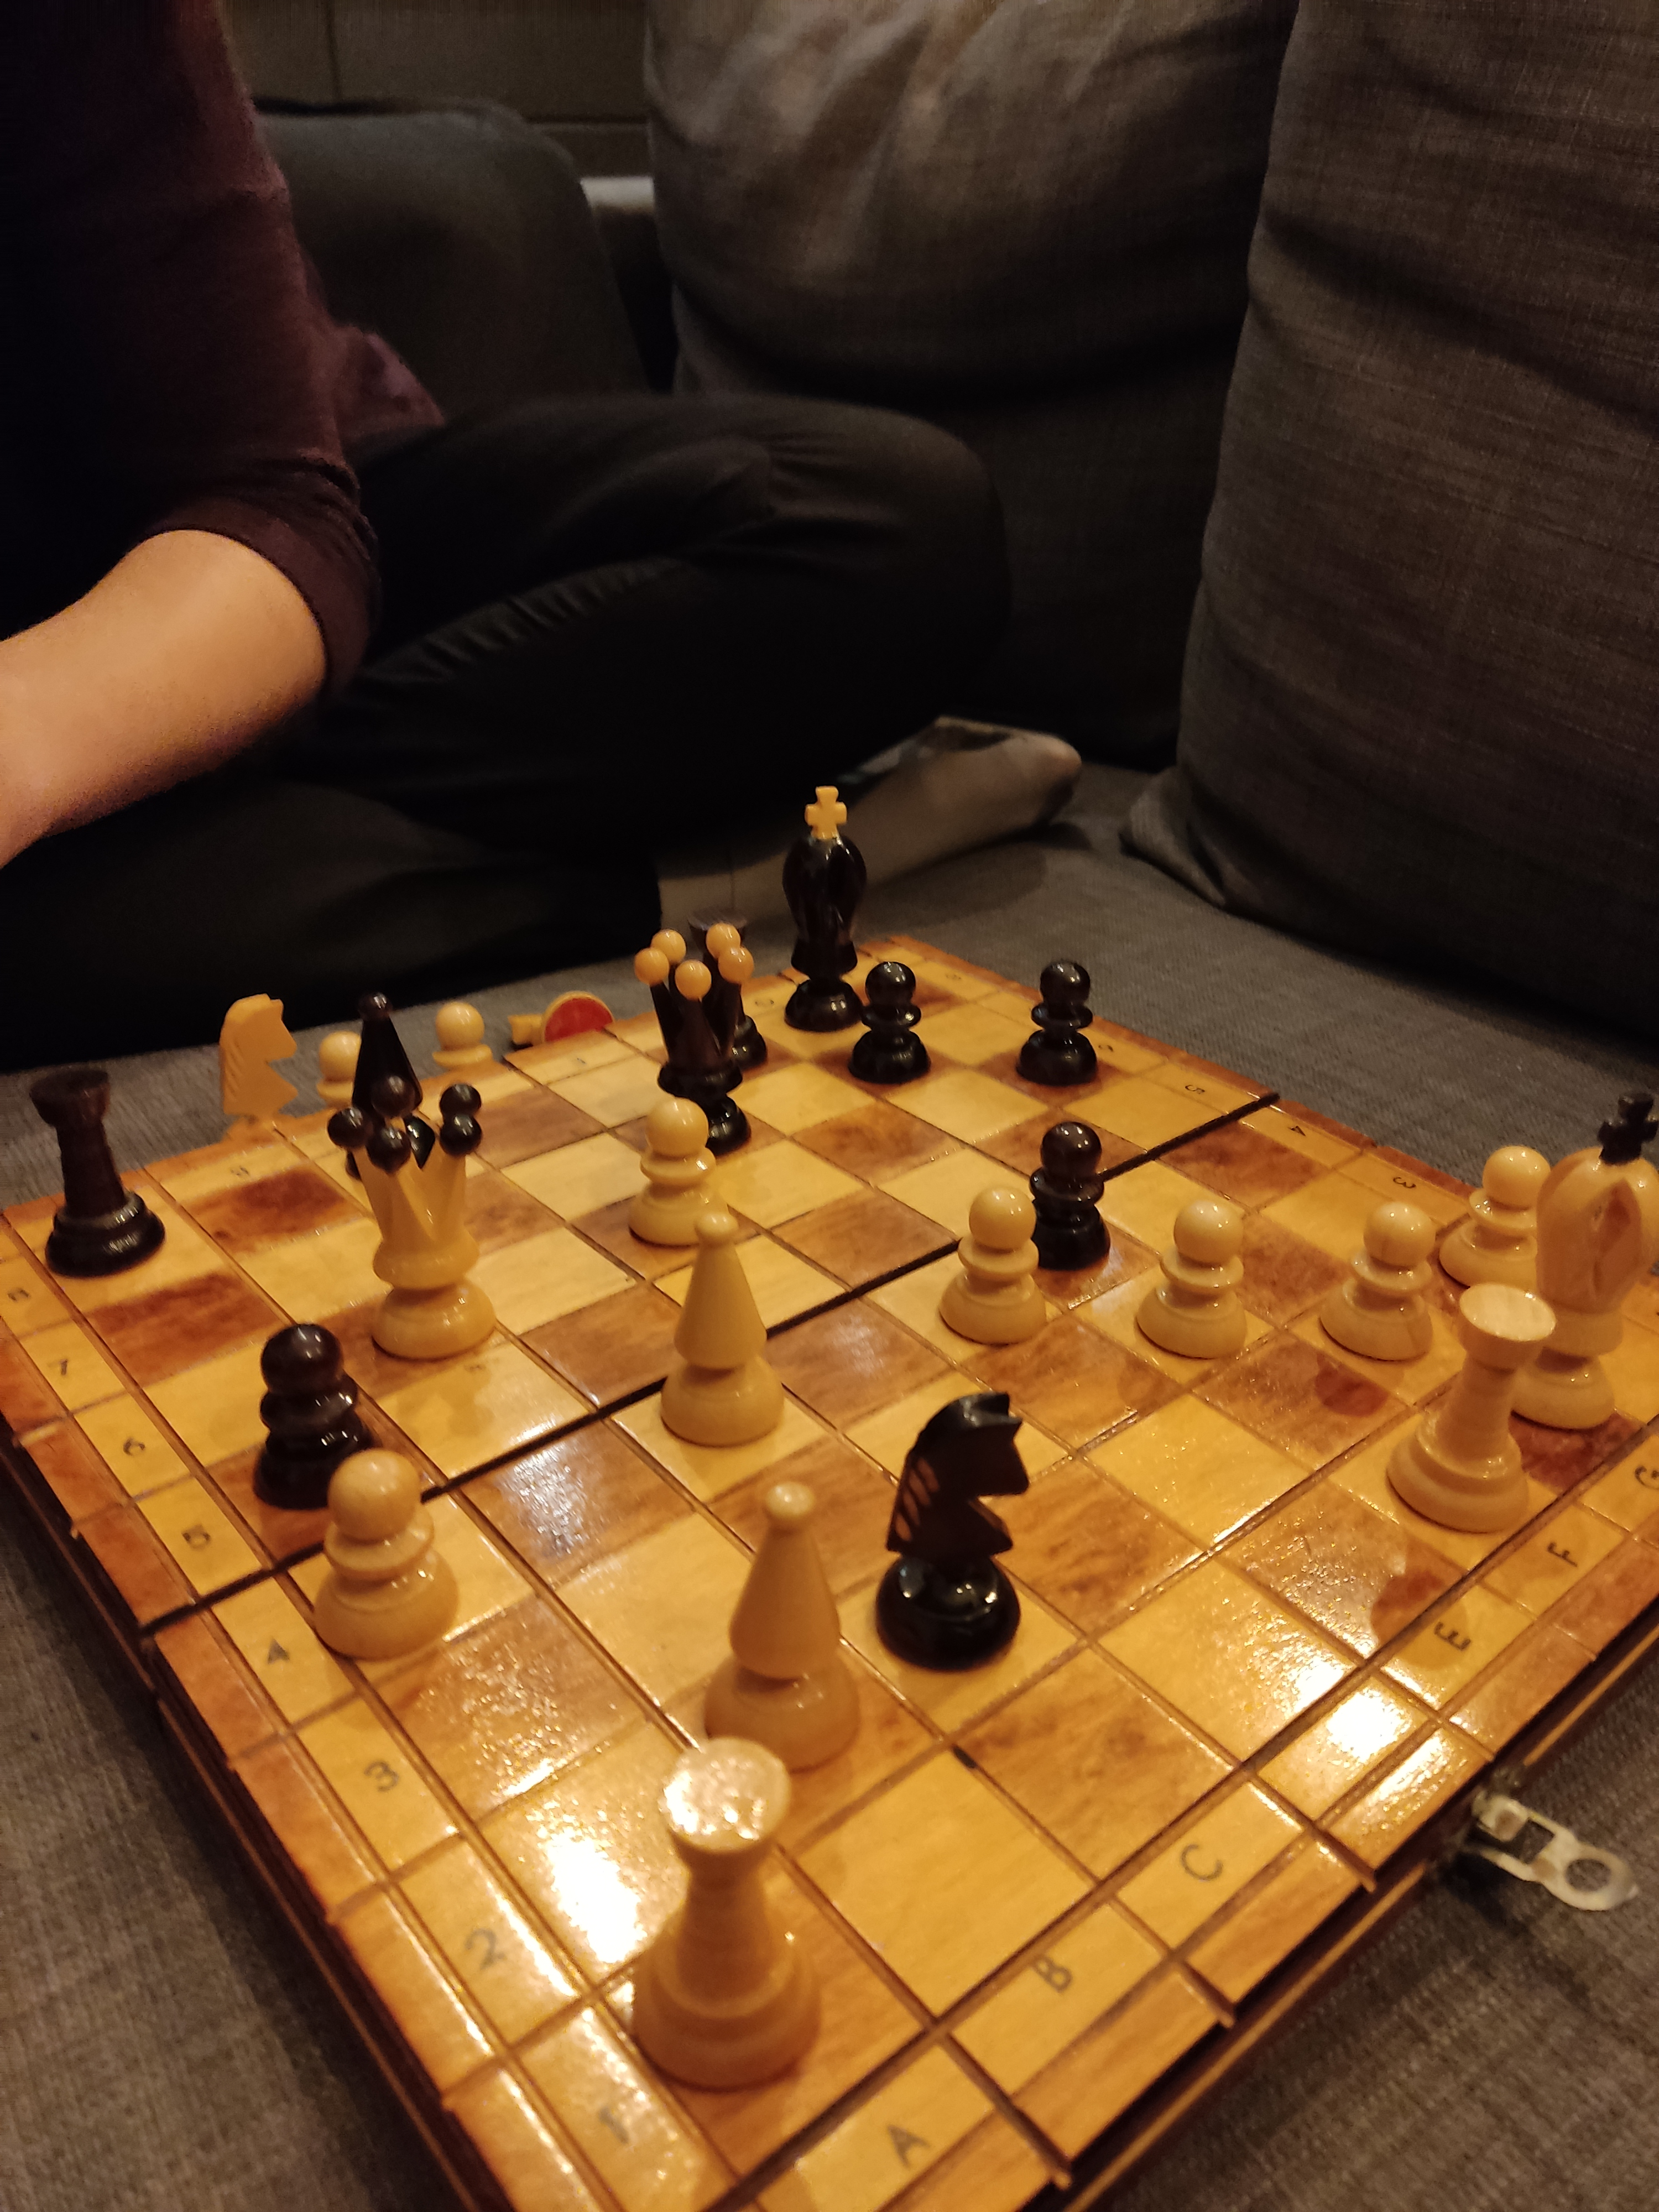bbishop: (338, 989, 439, 1176)
bking: (781, 787, 870, 1040)
bknight: (870, 1379, 1035, 1684)
bpawn: (258, 1320, 383, 1519), (1014, 1118, 1115, 1268), (1016, 956, 1101, 1092), (849, 960, 932, 1087)
bqueen: (633, 920, 767, 1162)
brook: (30, 1057, 160, 1275)
wbishop: (699, 1484, 868, 1777), (652, 1202, 789, 1456)
wking: (1500, 1089, 1659, 1426)
wknight: (211, 986, 307, 1160)
wpawn: (308, 1447, 457, 1658), (1317, 1197, 1432, 1360), (938, 1188, 1049, 1353), (1136, 1204, 1249, 1359), (1439, 1146, 1541, 1291), (634, 1096, 727, 1247)
wqueen: (329, 1073, 507, 1367)
wrook: (636, 1728, 826, 2090), (1377, 1284, 1549, 1543)
